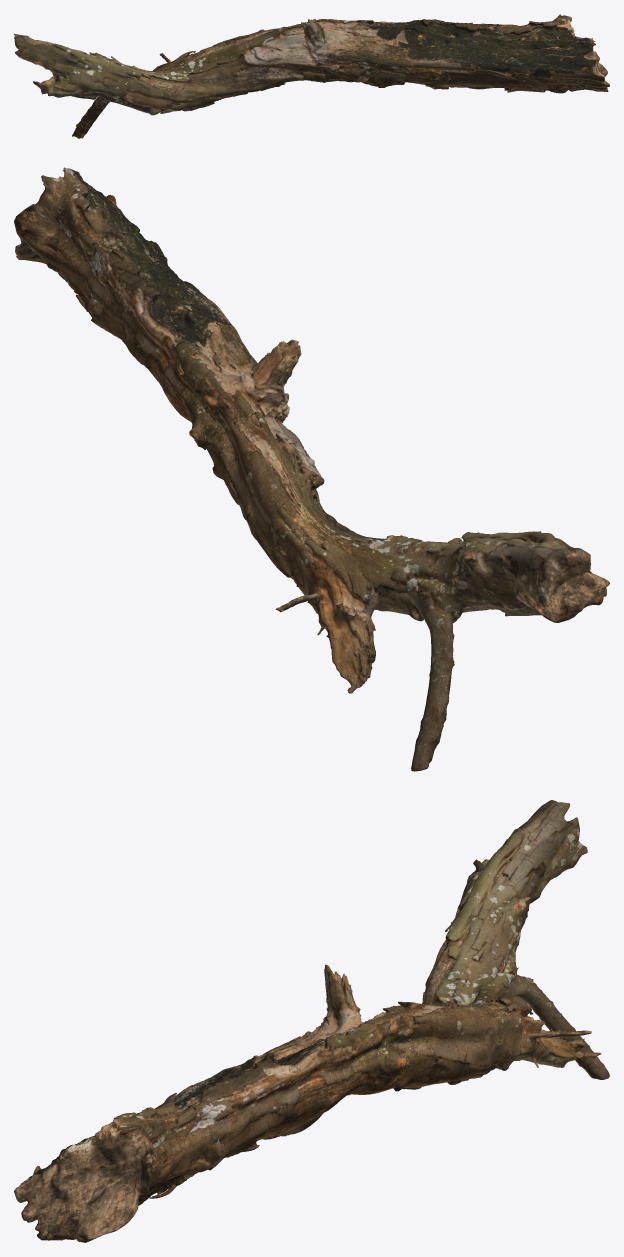
File: SM_PH_dead_tree_trunk_02.fbx
3 renders of one model, top to bottom at view 1: azimuth 30°, elevation 25°; view 2: azimuth 150°, elevation 25°; view 3: azimuth 270°, elevation 25°, orthographic. The views are drawn at different scales.
Visible parts, largest first — view 1: SM_PH_dead_tree_trunk_02; view 2: SM_PH_dead_tree_trunk_02; view 3: SM_PH_dead_tree_trunk_02.
Boxes of the visible parts, left/top/right/bottom form: SM_PH_dead_tree_trunk_02: left=14, top=14, right=609, bottom=138; SM_PH_dead_tree_trunk_02: left=14, top=167, right=609, bottom=771; SM_PH_dead_tree_trunk_02: left=14, top=800, right=609, bottom=1242.
Size of the model in its own units: 3.54 by 2.42 by 1.06.
Materials: 1 (1 with a texture image).
